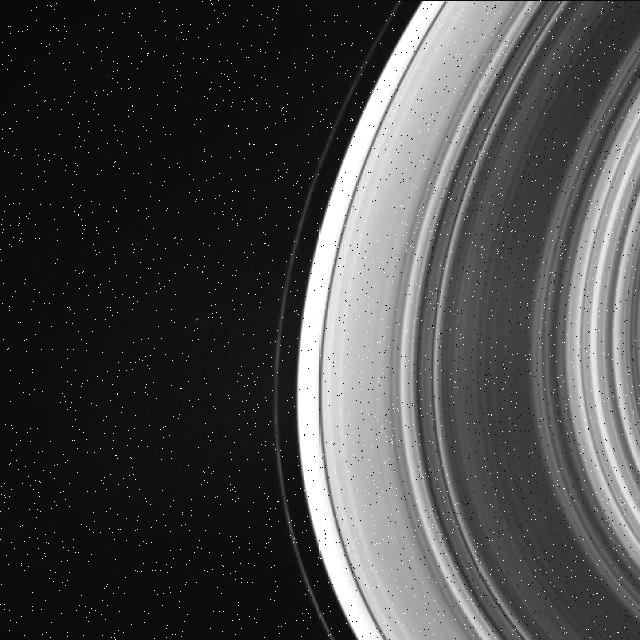Saturn: (270, 0, 640, 640)
